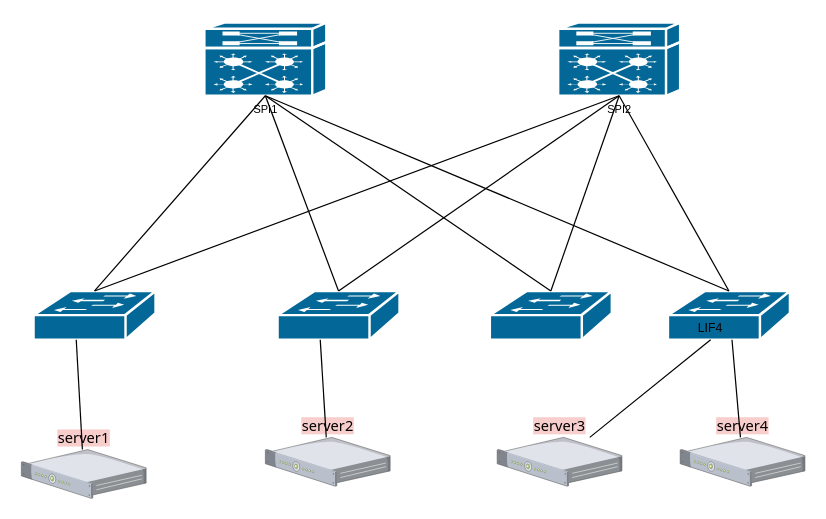
This 826x519 diagram has some shape labels left out. The centre of each missing label's shape, as x and y in pixels:
"LIF1" belongs at point (94, 314).
"LIF2" belongs at point (338, 314).
"LIF3" belongs at point (550, 314).
